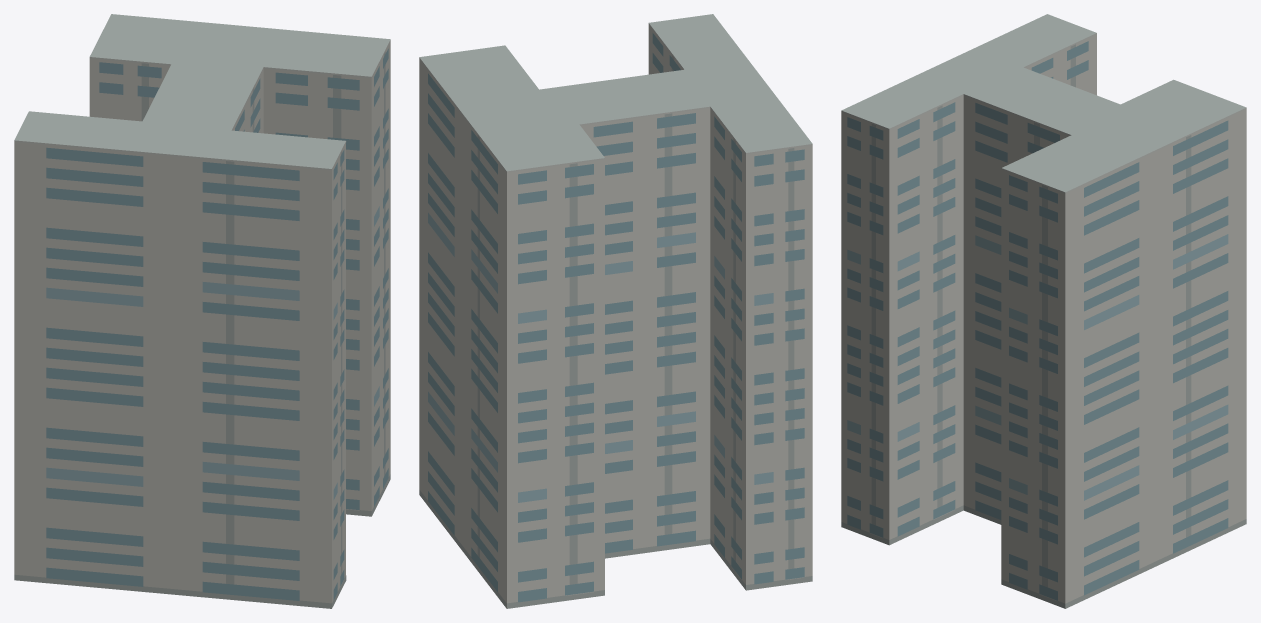
Rendered from residential-855126de-7e9a-4212-a840-1bedfe299eed.glb.
3 views of the same model, side by side, from view 1: azimuth 30°, elevation 25°; view 2: azimuth 150°, elevation 25°; view 3: azimuth 270°, elevation 25° (orthographic). The views are drawn at different scales.
Visible parts, largest first — view 1: residential-855126de-7e9a-4212-a840-1bedfe299eed.tmp; view 2: residential-855126de-7e9a-4212-a840-1bedfe299eed.tmp; view 3: residential-855126de-7e9a-4212-a840-1bedfe299eed.tmp.
Part boxes in pixels (x1,y1,x2,y2): residential-855126de-7e9a-4212-a840-1bedfe299eed.tmp: [14, 14, 390, 608]; residential-855126de-7e9a-4212-a840-1bedfe299eed.tmp: [419, 14, 812, 608]; residential-855126de-7e9a-4212-a840-1bedfe299eed.tmp: [841, 14, 1246, 608].
Size of the model in its own units: 64.3 by 70 by 61.74.
